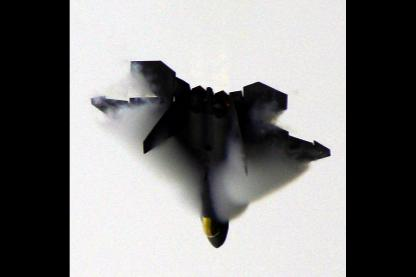F18: (91, 59, 330, 248)
